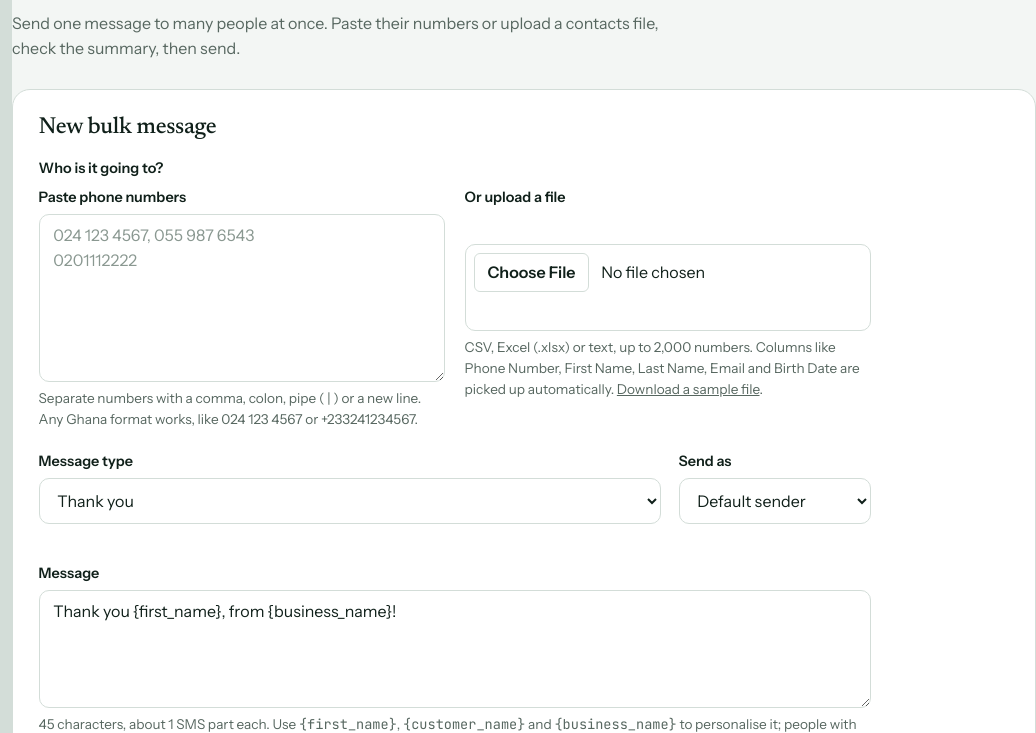
BulkSend › starts from your saved template and can't be reviewed until there are numbers
Expected: the text box labelled "Message" holds "Thank you {first_name}, from {business_name}!", 39,590 -> 871,708
Step 1. Click the text box labelled "Paste phone numbers" → (242, 298), box 39,214 -> 445,382
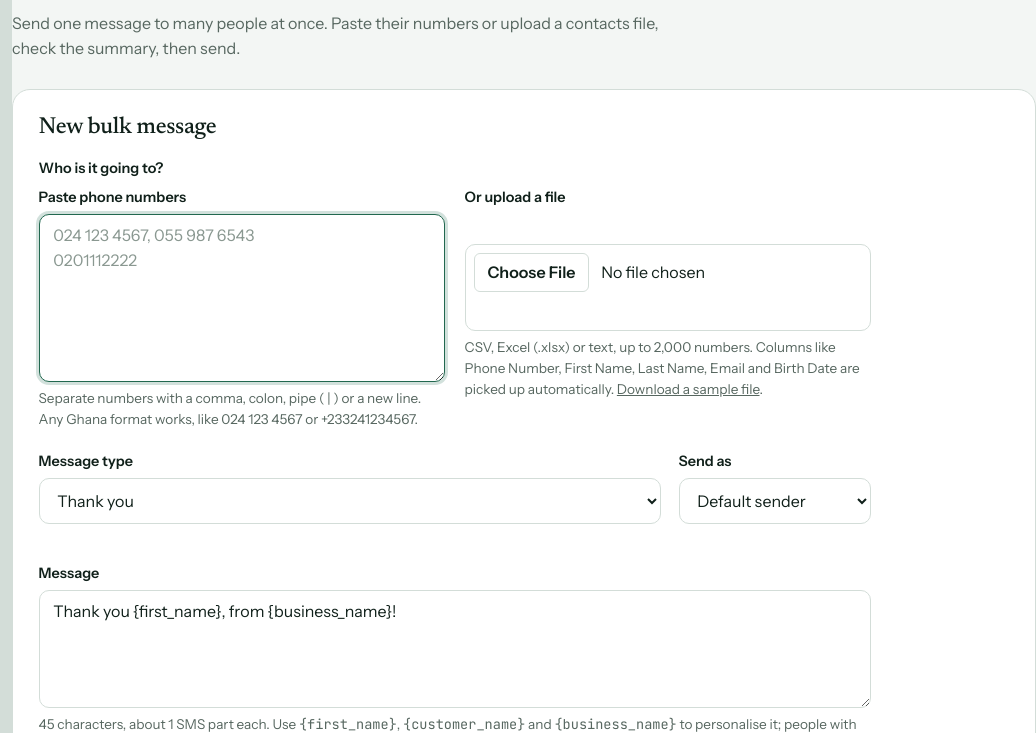
Step 2. Type keys "0241234567, 0551234567"
(page scrolled)
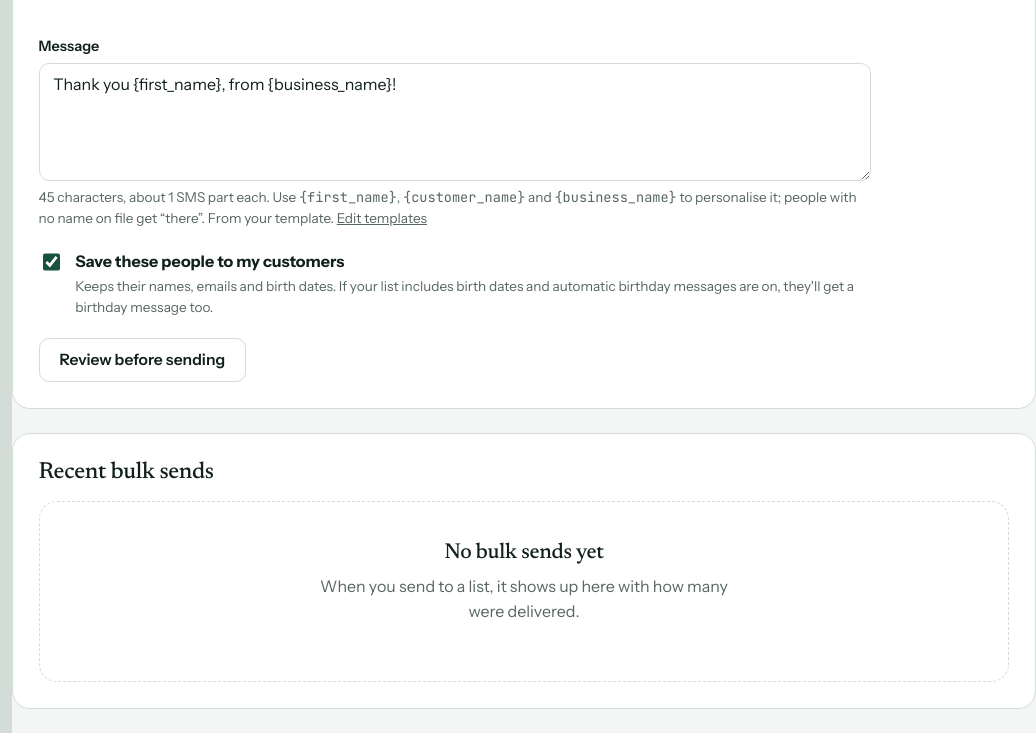
Now the button "Review before sending" is enabled, box 39,338 -> 246,382
